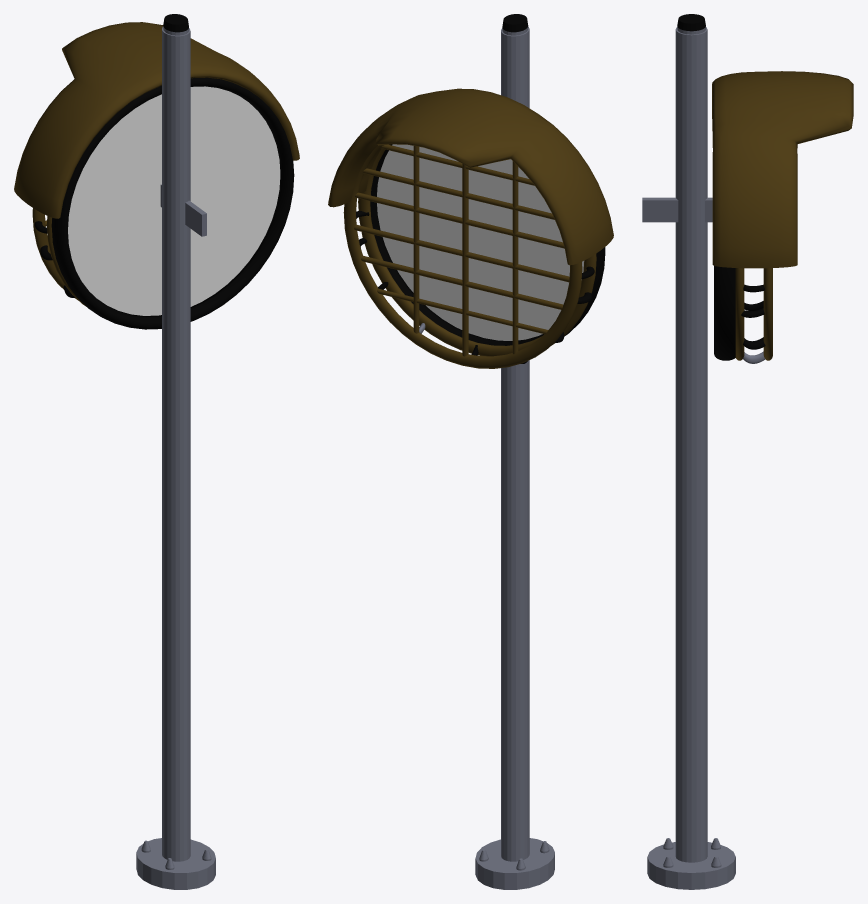
File: train mirror.fbx
The picture shows the model from 3 angles, left to right: view 1: azimuth 30°, elevation 25°; view 2: azimuth 150°, elevation 25°; view 3: azimuth 270°, elevation 25°; orthographic projection.
Visible parts, largest first — view 1: Left post.001; view 2: Left post.001; view 3: Left post.001.
Part boxes in pixels (x1,y1,x2,y2): Left post.001: [14, 14, 299, 889]; Left post.001: [328, 14, 613, 889]; Left post.001: [642, 14, 853, 889].
Bounding box in the file's own units: 296 × 933 × 209.
